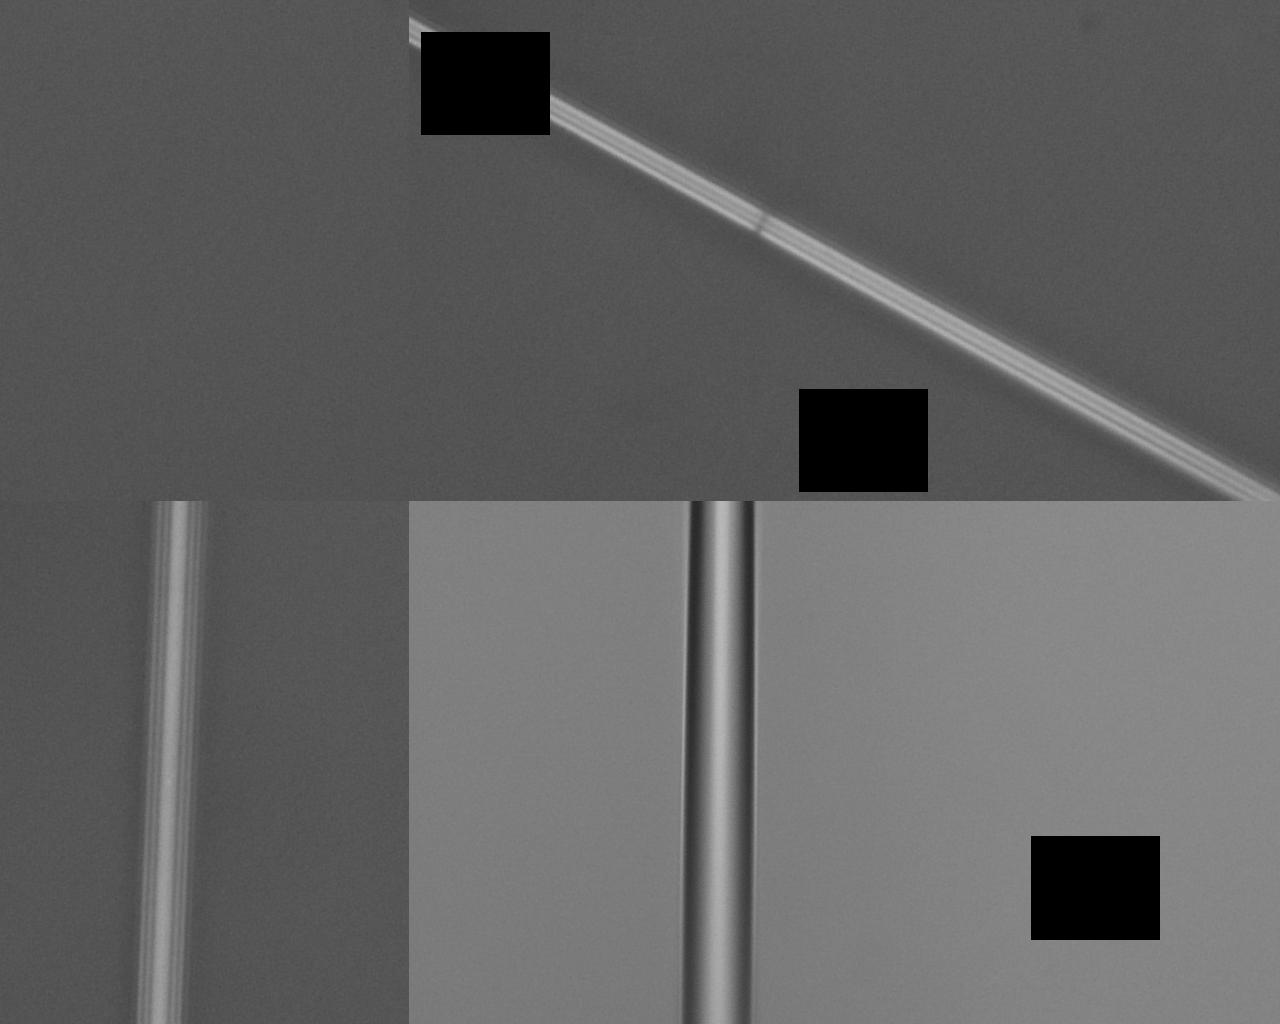fiber: (128, 12, 1152, 667)
